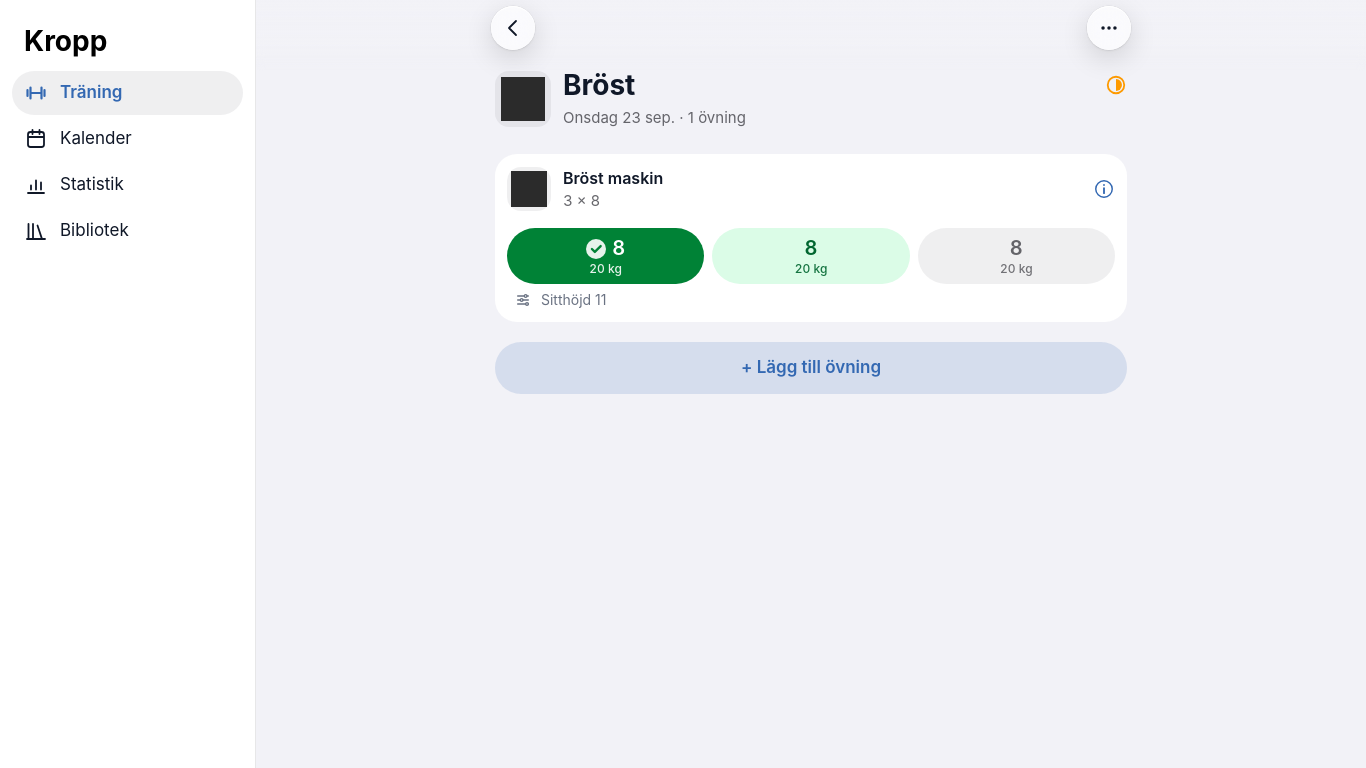
corrects a done set in a sheet titled for it, its fields rows of a form
The width and height of the screenshot is (1366, 768).
Step 1. Click the button with test id "set-done" → (606, 256), box left=507, top=228, right=704, bottom=284
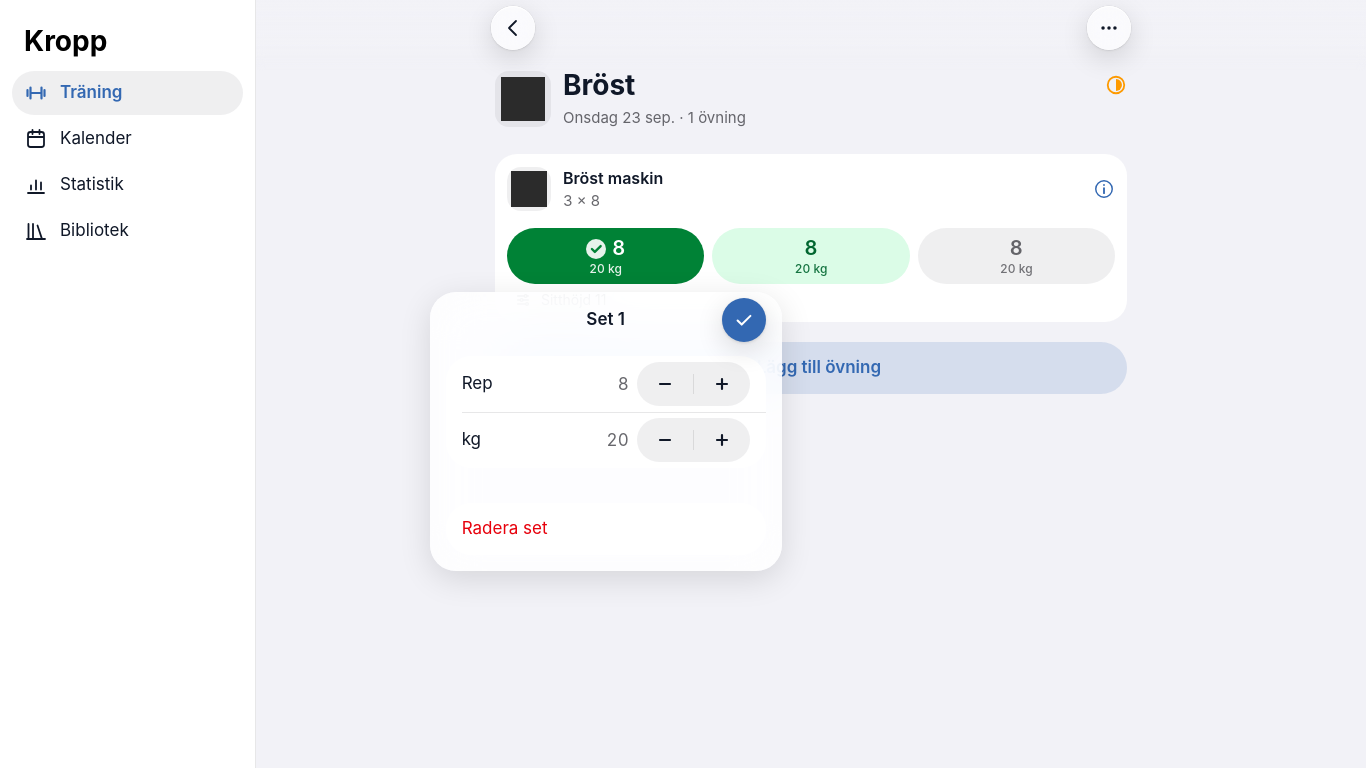
Expected: the button with test id "remove-set" reads "Radera set", left=446, top=503, right=766, bottom=555
